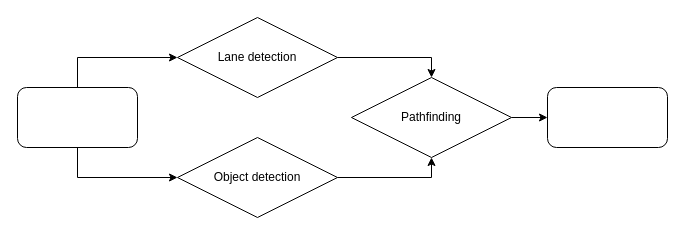
Image size: 685x235. Some labels were removed from this diagram. Each missing label, with the centre of its shape:
Vehicle controller: [607,117]
Video footage: [77,117]
